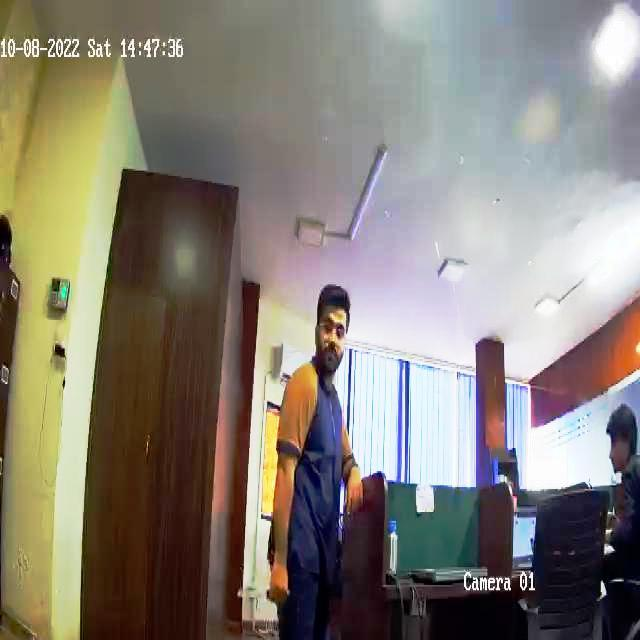Knife: (231, 576, 291, 616)
